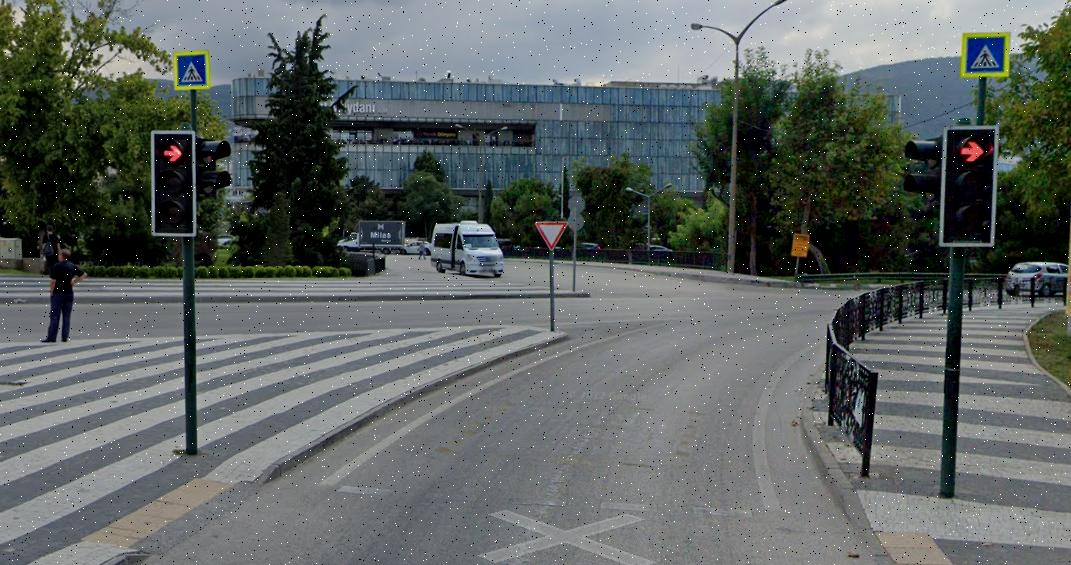redlight: (947, 128, 995, 240), (150, 132, 197, 233)
